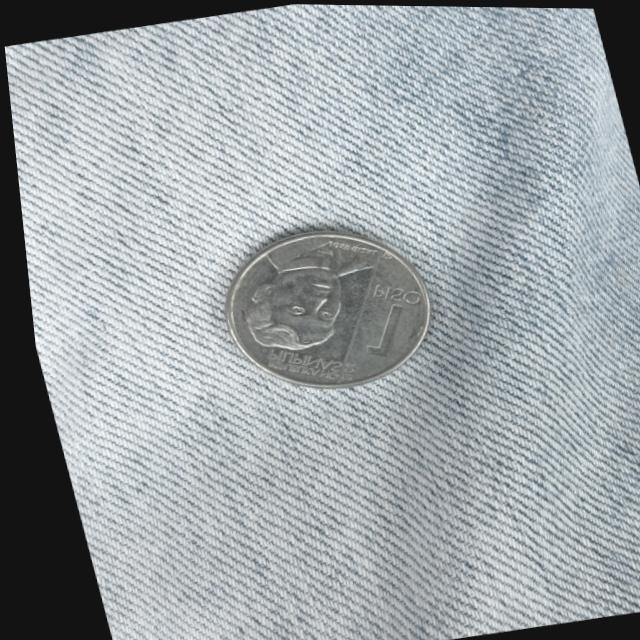1_New_Front: (332, 271, 433, 362)
